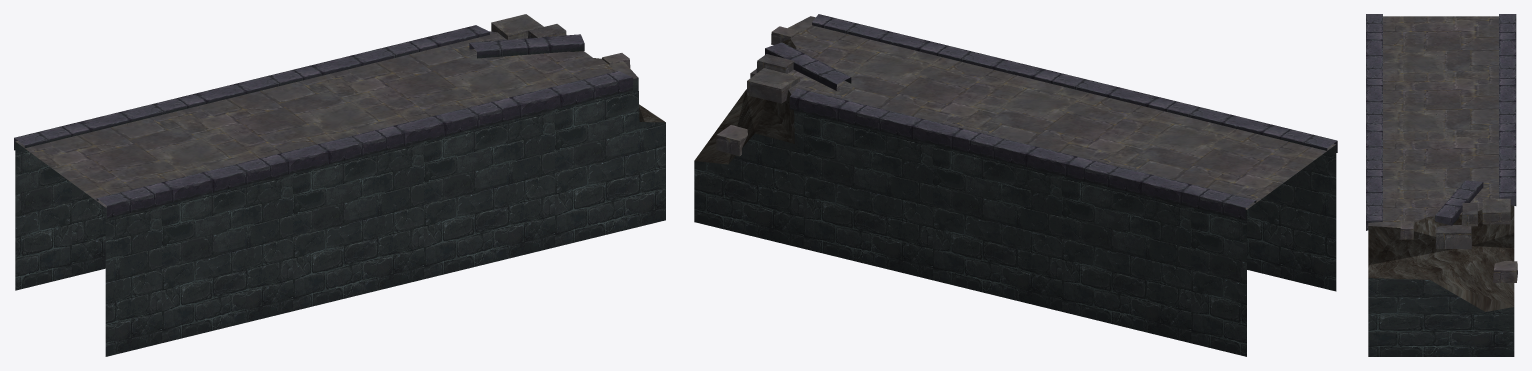
The model's file is building_section02_guanka10C11.FBX.
The picture shows the model from 3 angles, left to right: view 1: azimuth 30°, elevation 25°; view 2: azimuth 150°, elevation 25°; view 3: azimuth 270°, elevation 25°; orthographic projection. The views are drawn at different scales.
Parts seen in each view (by area): view 1: building_section02_guanka10C11; view 2: building_section02_guanka10C11; view 3: building_section02_guanka10C11.
Part boxes in pixels (left/top/right/bottom): building_section02_guanka10C11: left=14, top=14, right=665, bottom=356; building_section02_guanka10C11: left=694, top=14, right=1337, bottom=356; building_section02_guanka10C11: left=1366, top=14, right=1517, bottom=356.
Bounding box in the file's own units: 37.81 × 10.12 × 11.01.
